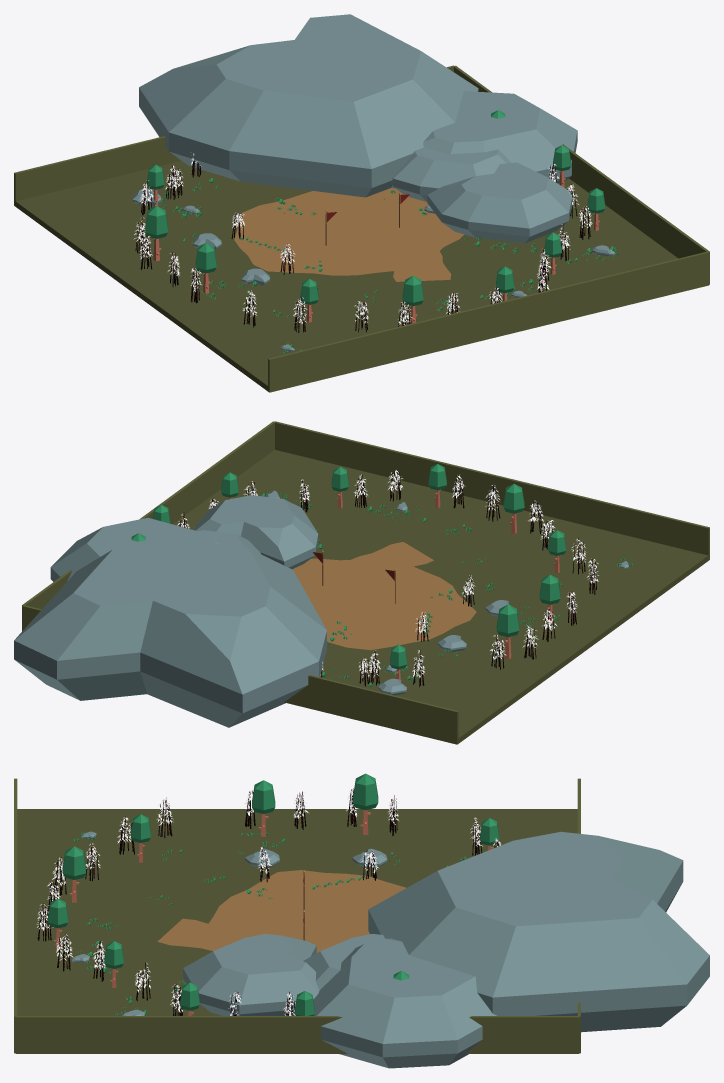
Rendered from TranTuyenNuiSoc_Environment.glb.
The picture shows the model from 3 angles, top to bottom: view 1: azimuth 30°, elevation 25°; view 2: azimuth 150°, elevation 25°; view 3: azimuth 270°, elevation 25°; orthographic projection. The views are drawn at different scales.
Parts seen in each view (by area): view 1: DatLang, stone_largeC8, _MeshInstance3D_1255, BaiChienDatNen, stone_largeC7, stone_largeC9, _MeshInstance3D_1249, _MeshInstance3D_1252, stone_largeC6, DuongDatUon, tree_default_dark9, tree_default_dark8 (+1 smaller); view 2: DatLang, stone_largeC8, _MeshInstance3D_1255, BaiChienDatNen, _MeshInstance3D_1249, stone_largeC7, _MeshInstance3D_1252, stone_largeC9, DuongDatUon, tree_default_dark9, tree_default_dark6, tree_default_dark8 (+2 smaller); view 3: DatLang, stone_largeC8, stone_largeC9, _MeshInstance3D_1252, BaiChienDatNen, stone_largeC7, stone_largeC6, DuongDatUon, _MeshInstance3D_1255, tree_default_dark9, tree_default_dark8, tree_default_dark6 (+5 smaller).
Boxes of the visible parts, bbox=[...] form: DatLang: bbox=[14, 161, 677, 391]; stone_largeC8: bbox=[139, 14, 478, 197]; _MeshInstance3D_1255: bbox=[268, 251, 709, 392]; BaiChienDatNen: bbox=[234, 187, 463, 275]; stone_largeC7: bbox=[427, 162, 572, 243]; stone_largeC9: bbox=[391, 91, 577, 188]; _MeshInstance3D_1249: bbox=[14, 65, 454, 206]; _MeshInstance3D_1252: bbox=[454, 65, 709, 284]; stone_largeC6: bbox=[391, 147, 511, 201]; DuongDatUon: bbox=[393, 251, 451, 281]; tree_default_dark9: bbox=[145, 206, 168, 261]; tree_default_dark8: bbox=[195, 243, 216, 293]; DatLang: bbox=[173, 450, 709, 743]; stone_largeC8: bbox=[14, 538, 326, 727]; _MeshInstance3D_1255: bbox=[274, 421, 709, 560]; BaiChienDatNen: bbox=[292, 558, 476, 650]; _MeshInstance3D_1249: bbox=[22, 605, 458, 744]; stone_largeC7: bbox=[193, 495, 318, 569]; _MeshInstance3D_1252: bbox=[22, 421, 274, 631]; stone_largeC9: bbox=[50, 517, 220, 581]; DuongDatUon: bbox=[351, 542, 433, 566]; tree_default_dark9: bbox=[496, 604, 519, 659]; tree_default_dark6: bbox=[503, 484, 524, 533]; tree_default_dark8: bbox=[539, 574, 560, 624]; DatLang: bbox=[17, 809, 577, 1015]; stone_largeC8: bbox=[368, 831, 709, 1032]; stone_largeC9: bbox=[313, 938, 496, 1068]; _MeshInstance3D_1252: bbox=[15, 1016, 579, 1053]; BaiChienDatNen: bbox=[205, 870, 406, 952]; stone_largeC7: bbox=[183, 934, 319, 1015]; stone_largeC6: bbox=[303, 934, 384, 990]; DuongDatUon: bbox=[157, 918, 219, 950]; _MeshInstance3D_1255: bbox=[14, 778, 17, 1053]; tree_default_dark9: bbox=[353, 773, 378, 834]; tree_default_dark8: bbox=[252, 780, 275, 836]; tree_default_dark6: bbox=[62, 846, 85, 902].
Size of the model in its own units: 90.54 by 16.33 by 104.
